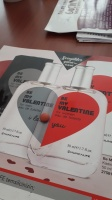Dolorex: (39, 112, 50, 123)
